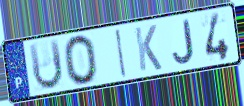4: (204, 10, 231, 62)
I: (114, 27, 128, 80)
J: (171, 18, 196, 66)
K: (133, 23, 164, 73)
O: (62, 33, 100, 87)
U: (27, 37, 65, 93)
